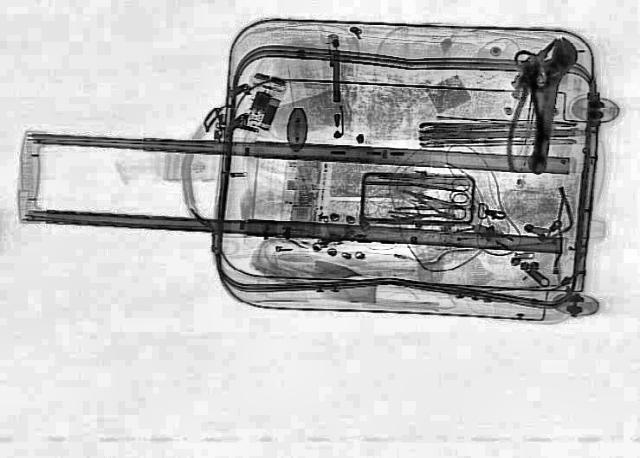Pliers: (506, 64, 548, 170)
Scissors: (401, 170, 472, 202)
Wrench: (507, 34, 578, 174)
